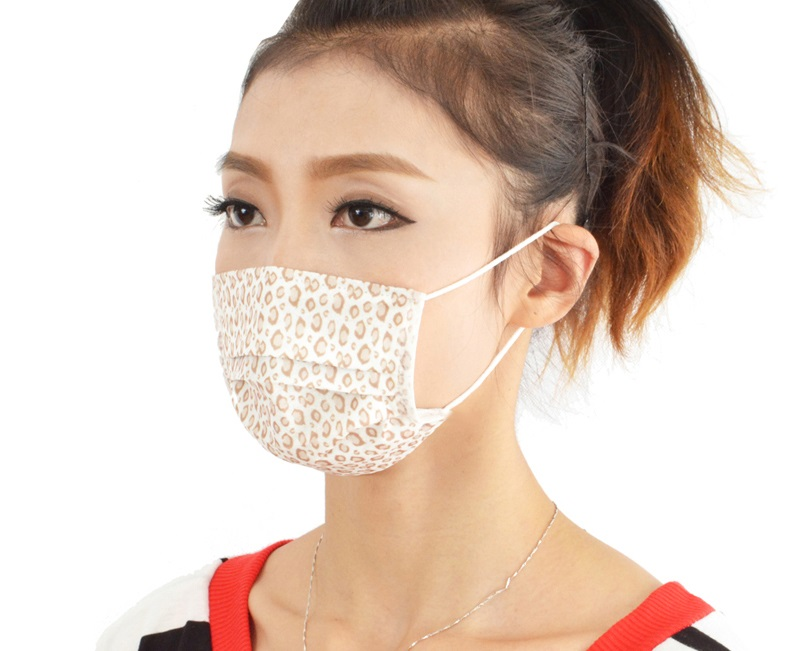face_mask: (213, 92, 453, 475)
